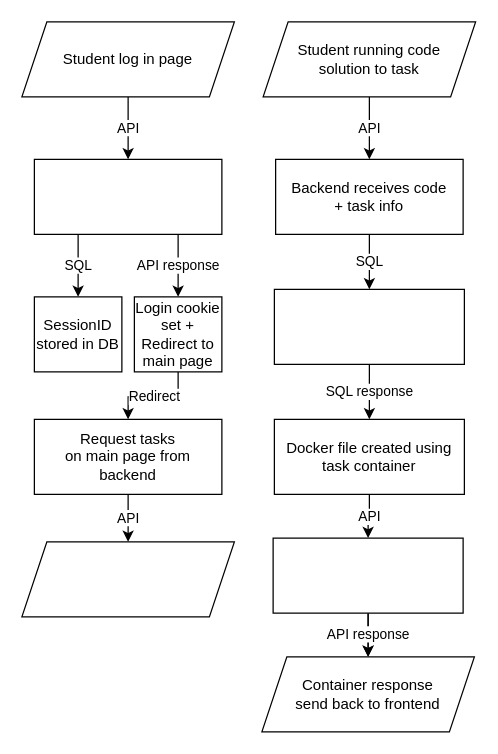
Some shapes in this 498 by 754 pixel diagram are drawn without their labels. Here are the shapes that lost their labels. From the top down, the centre of each, then its label:
At point 127,196: "Backend creates session ID".
At point 368,326: "Task info checked in DB".
At point 127,579: "Display class with tasks in".
At point 367,575: "Container runs code".
